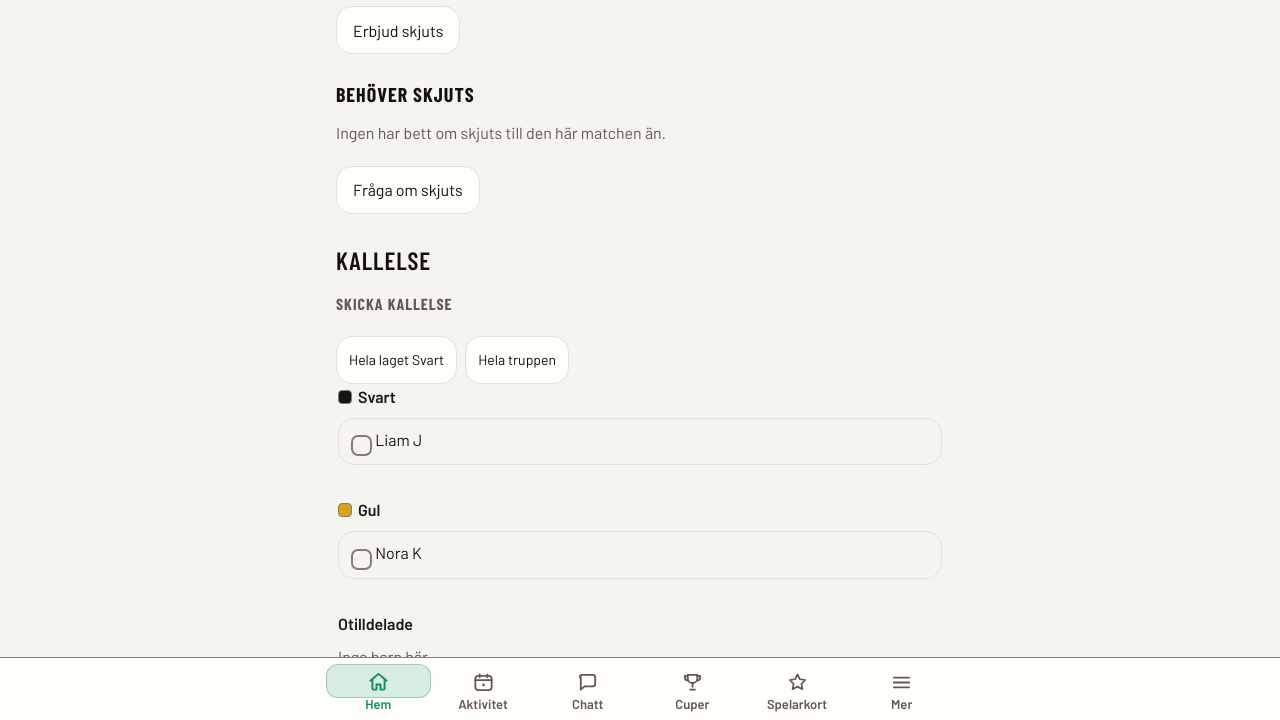
adminen skickar kallelse › väljer barn tvärs över lagen och skickar
(page scrolled)
Expected: the checkbox labelled "Nora K" is shown, [351, 548, 372, 570]
What coordinates should you click on to do the following:
click the button "Hela laget Svart"
I would click on:
 (397, 360)
Its box is [336, 336, 457, 384].
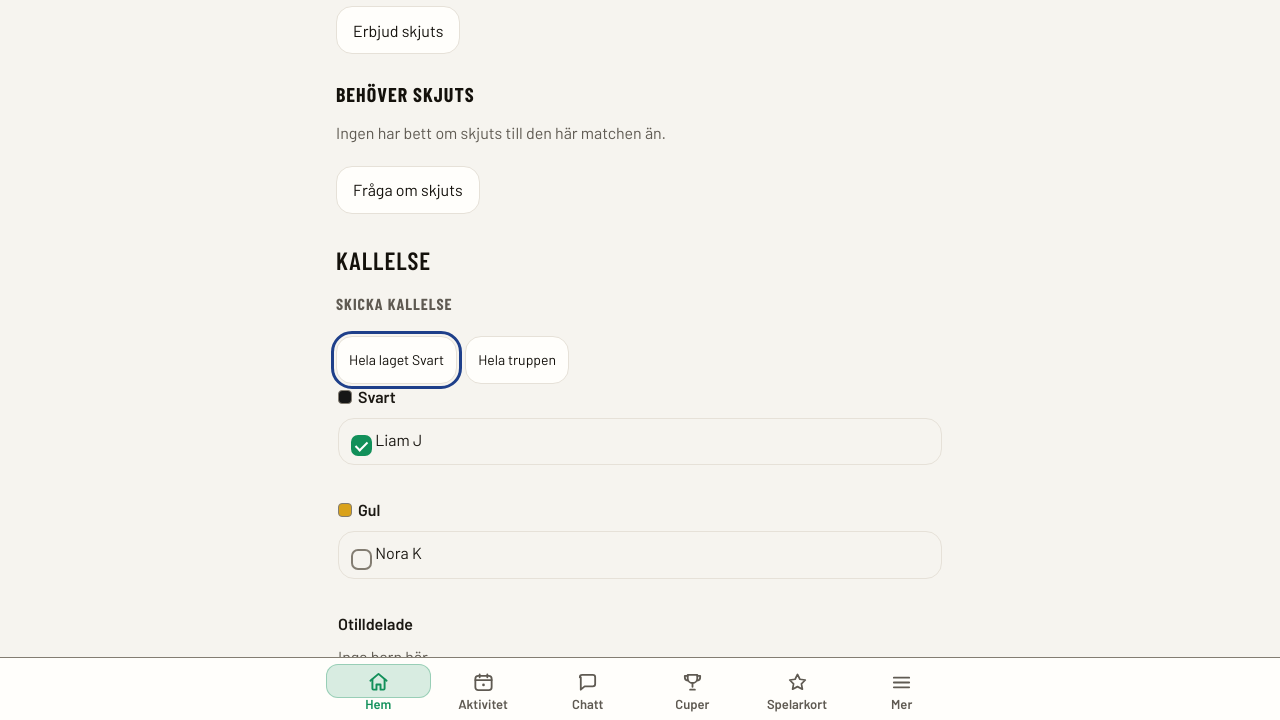
What coordinates should you click on to do the following:
click the checkbox labelled "Nora K"
I would click on:
 (362, 559)
Its box is [351, 548, 372, 570].
(page scrolled)
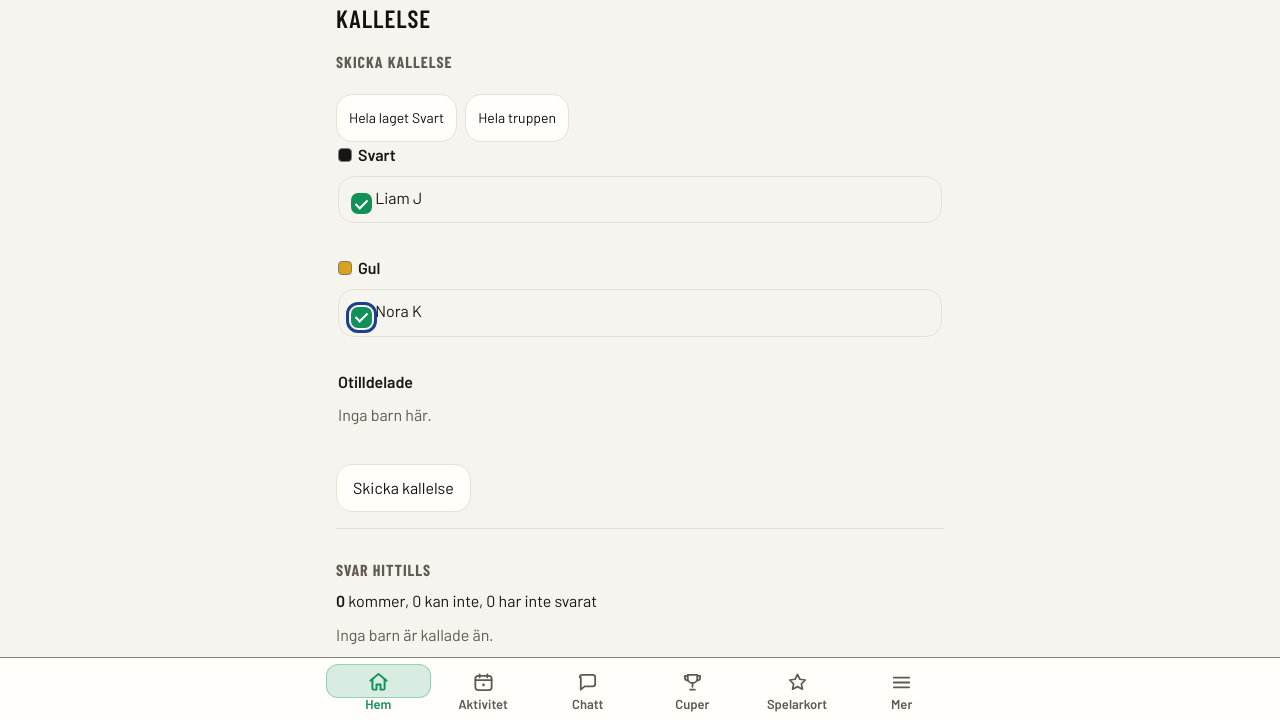
What coordinates should you click on to do the following:
click the button "Skicka kallelse"
I would click on:
 (403, 488)
Its box is [336, 464, 471, 512].
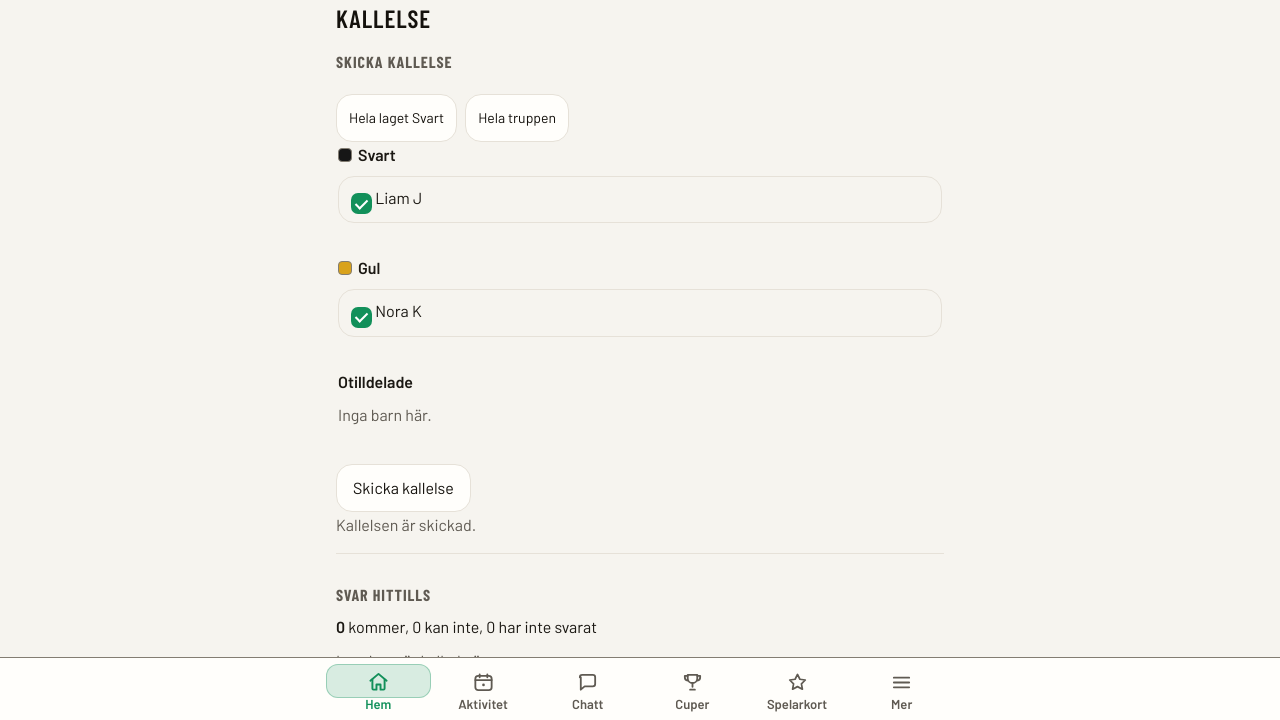
Now the text "Kallelsen är skickad." is shown, box [336, 515, 476, 534]
